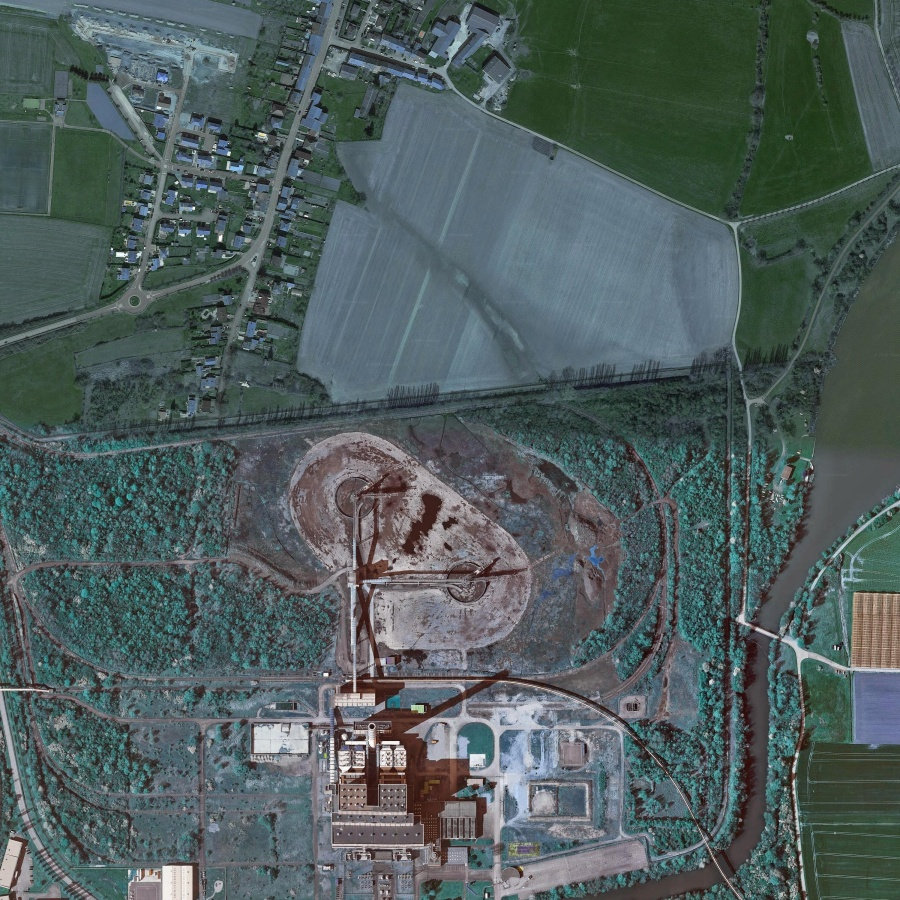PowerPlant: (257, 432, 530, 858)
